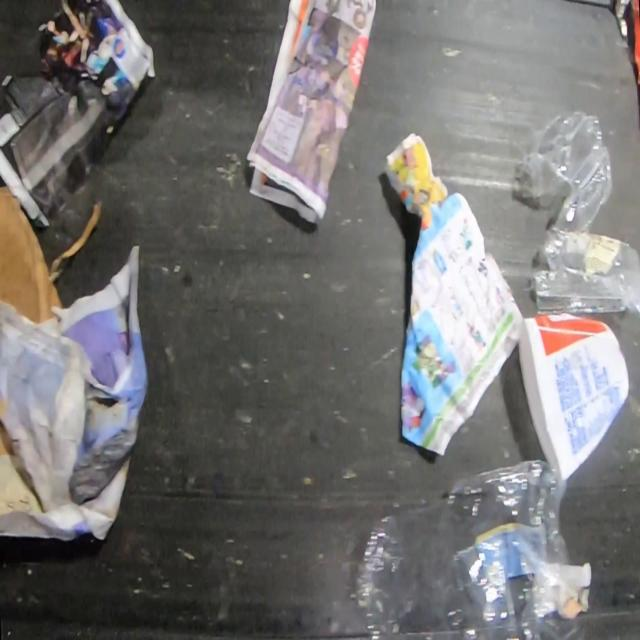cardboard: (0, 185, 102, 326), (627, 0, 640, 89)
rigid_plastic: (511, 106, 639, 318), (518, 311, 630, 481)
soft_plastic: (354, 460, 581, 640)
